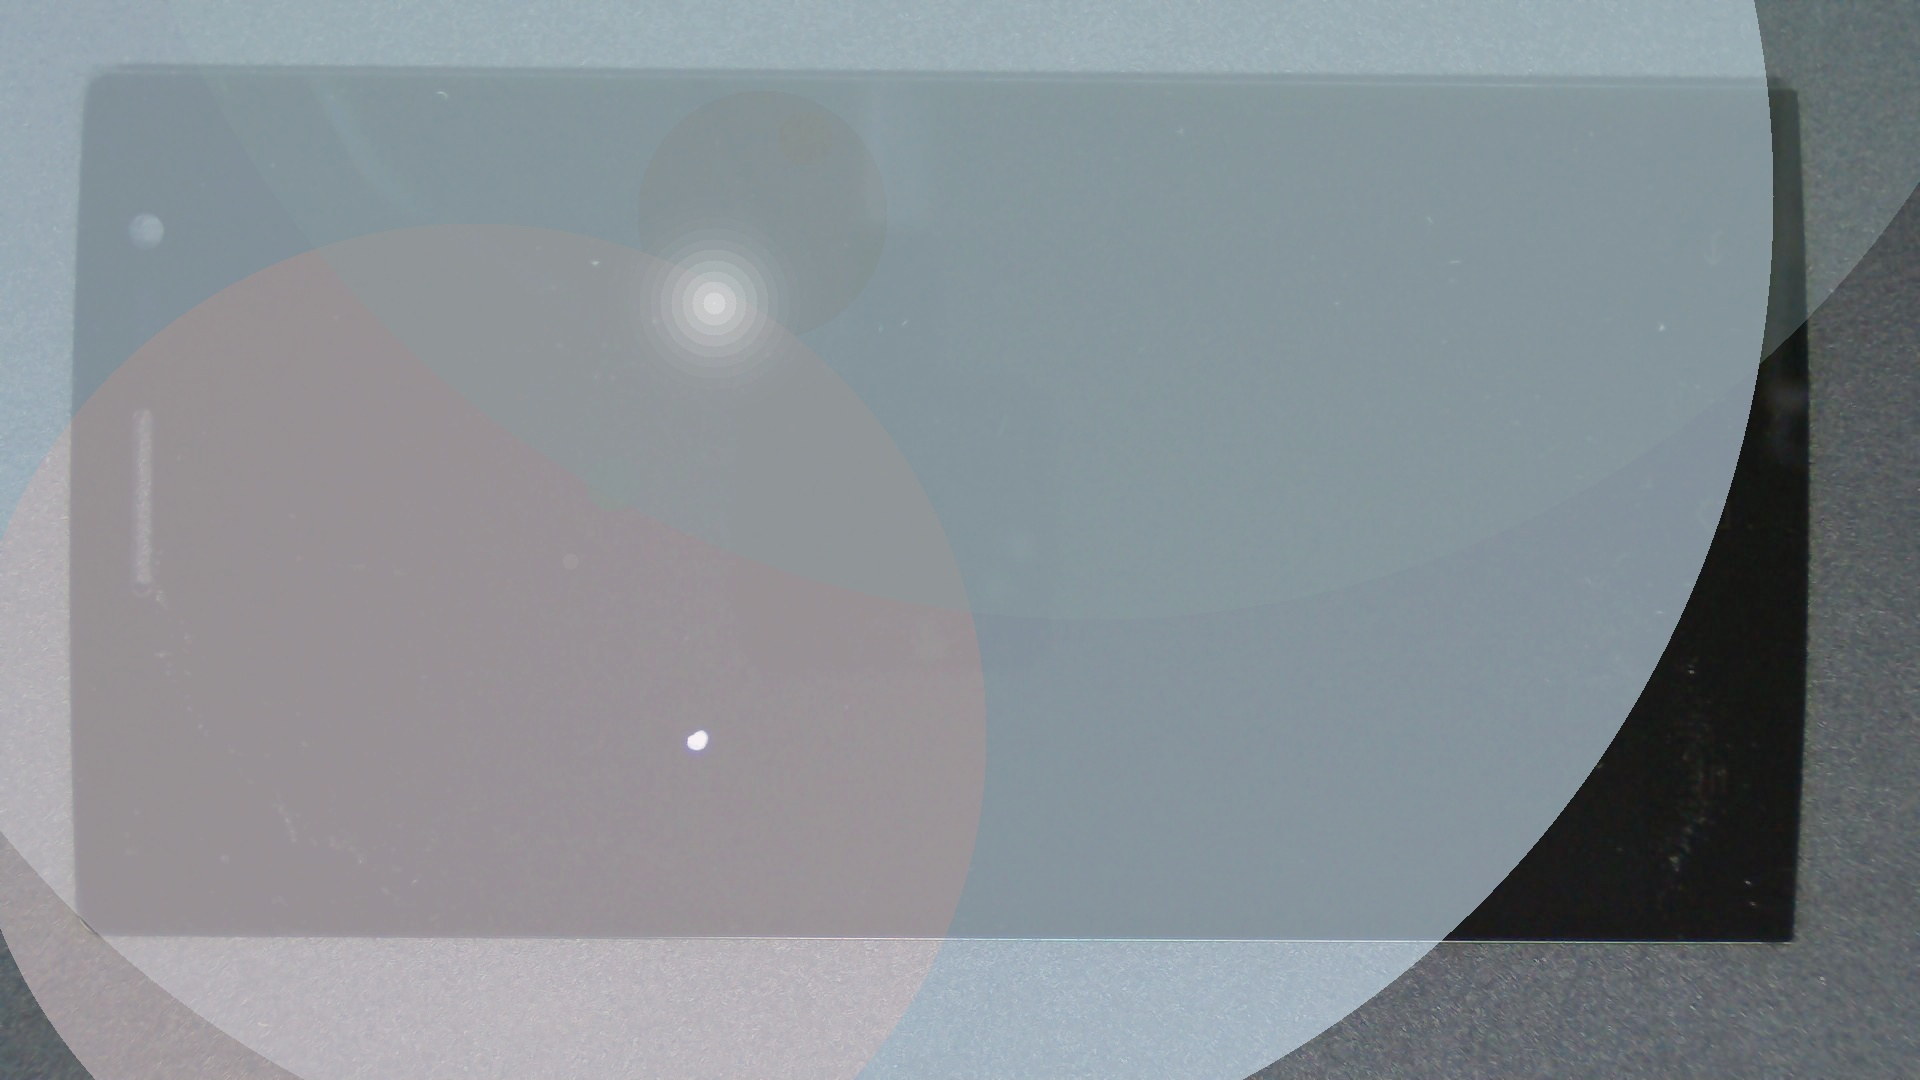oil: (351, 363, 1047, 1080)
